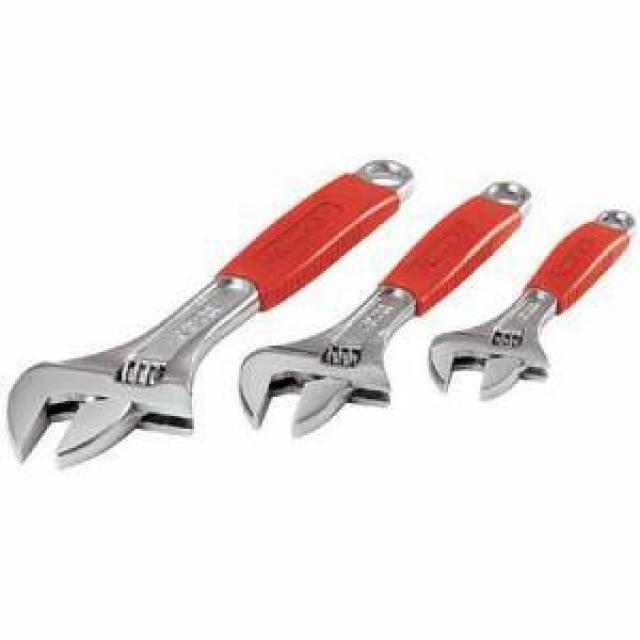wrench: (0, 152, 419, 479), (237, 171, 537, 437), (427, 201, 640, 408)
